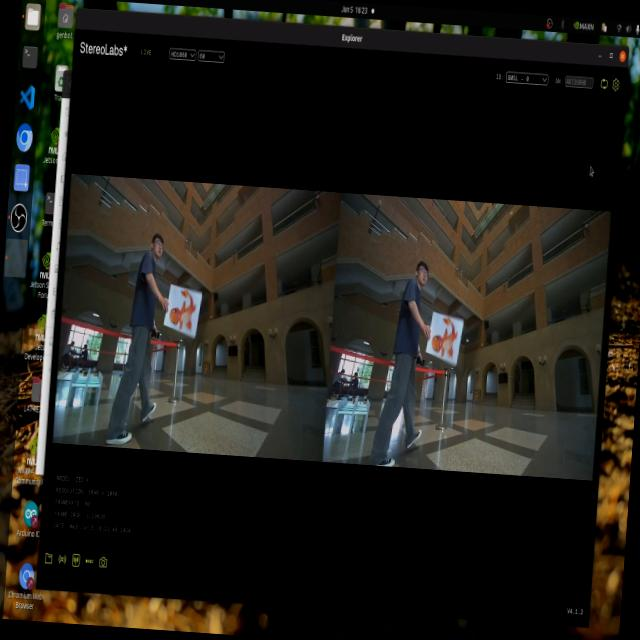red: (157, 280, 209, 342), (423, 314, 468, 364)
